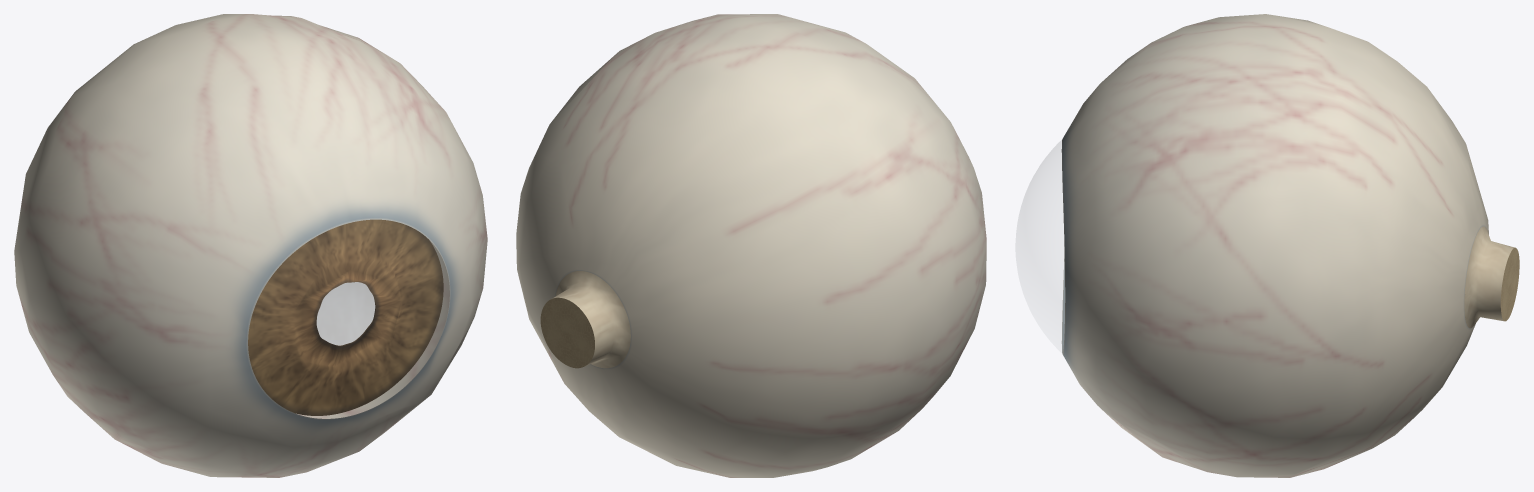
File: overview.glb
3 views of the same model, side by side, from view 1: azimuth 30°, elevation 25°; view 2: azimuth 150°, elevation 25°; view 3: azimuth 270°, elevation 25° (orthographic).
Parts seen in each view (by area): view 1: eye; view 2: eye; view 3: eye.
Part boxes in pixels (x1,y1,x2,y2): eye: (14, 14, 487, 477); eye: (516, 14, 986, 477); eye: (1016, 14, 1519, 477).
Bounding box in the file's own units: 0.0239 × 0.0234 × 0.0255.
6 materials, 6 textured.
